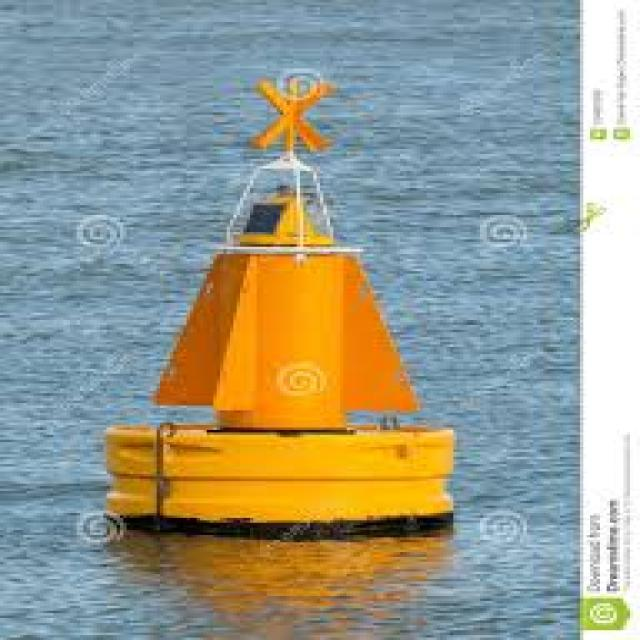2.5 sepcial mark: (94, 42, 488, 558)
